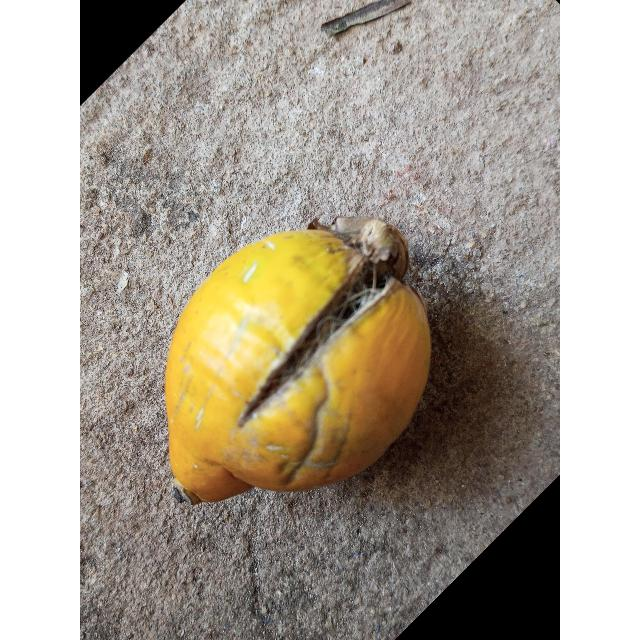damaged: (165, 217, 431, 505)
